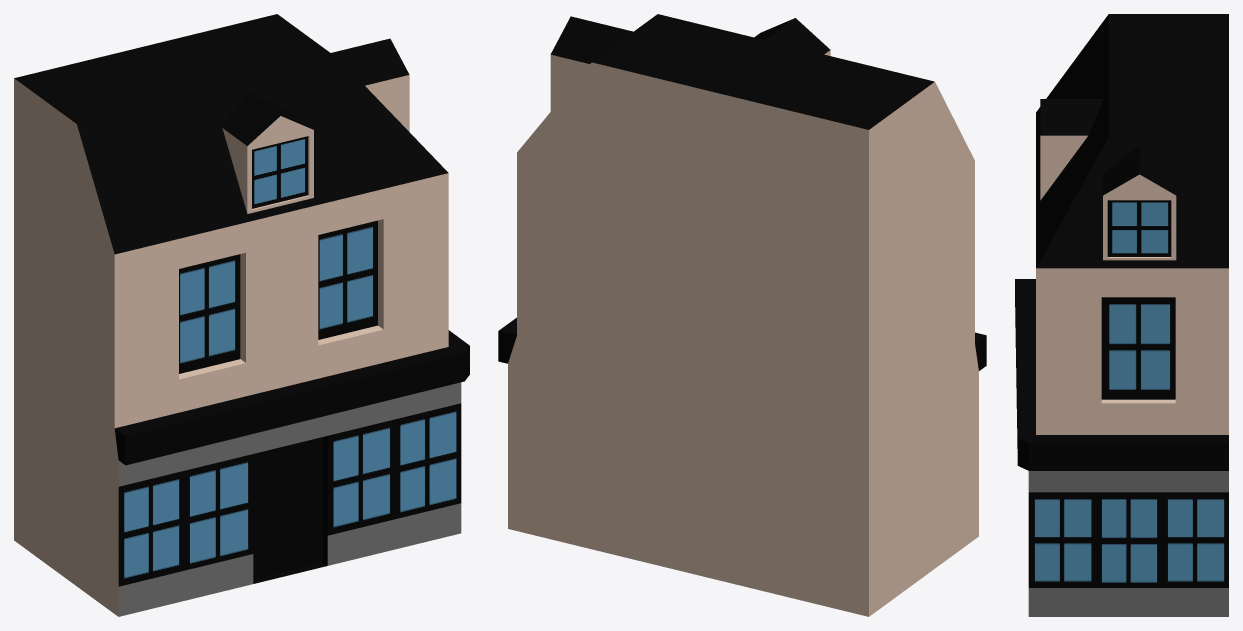
Rendered from moduê6.obj.
3 views of the same model, side by side, from view 1: azimuth 30°, elevation 25°; view 2: azimuth 150°, elevation 25°; view 3: azimuth 270°, elevation 25° (orthographic). The views are drawn at different scales.
Visible parts, largest first — view 1: Cube.101; view 2: Cube.101; view 3: Cube.101.
Part boxes in pixels (x1,y1,x2,y2): Cube.101: (14, 14, 469, 616); Cube.101: (498, 14, 986, 616); Cube.101: (1015, 14, 1228, 616).
Size of the model in its own units: 6.46 by 8.11 by 3.55.
